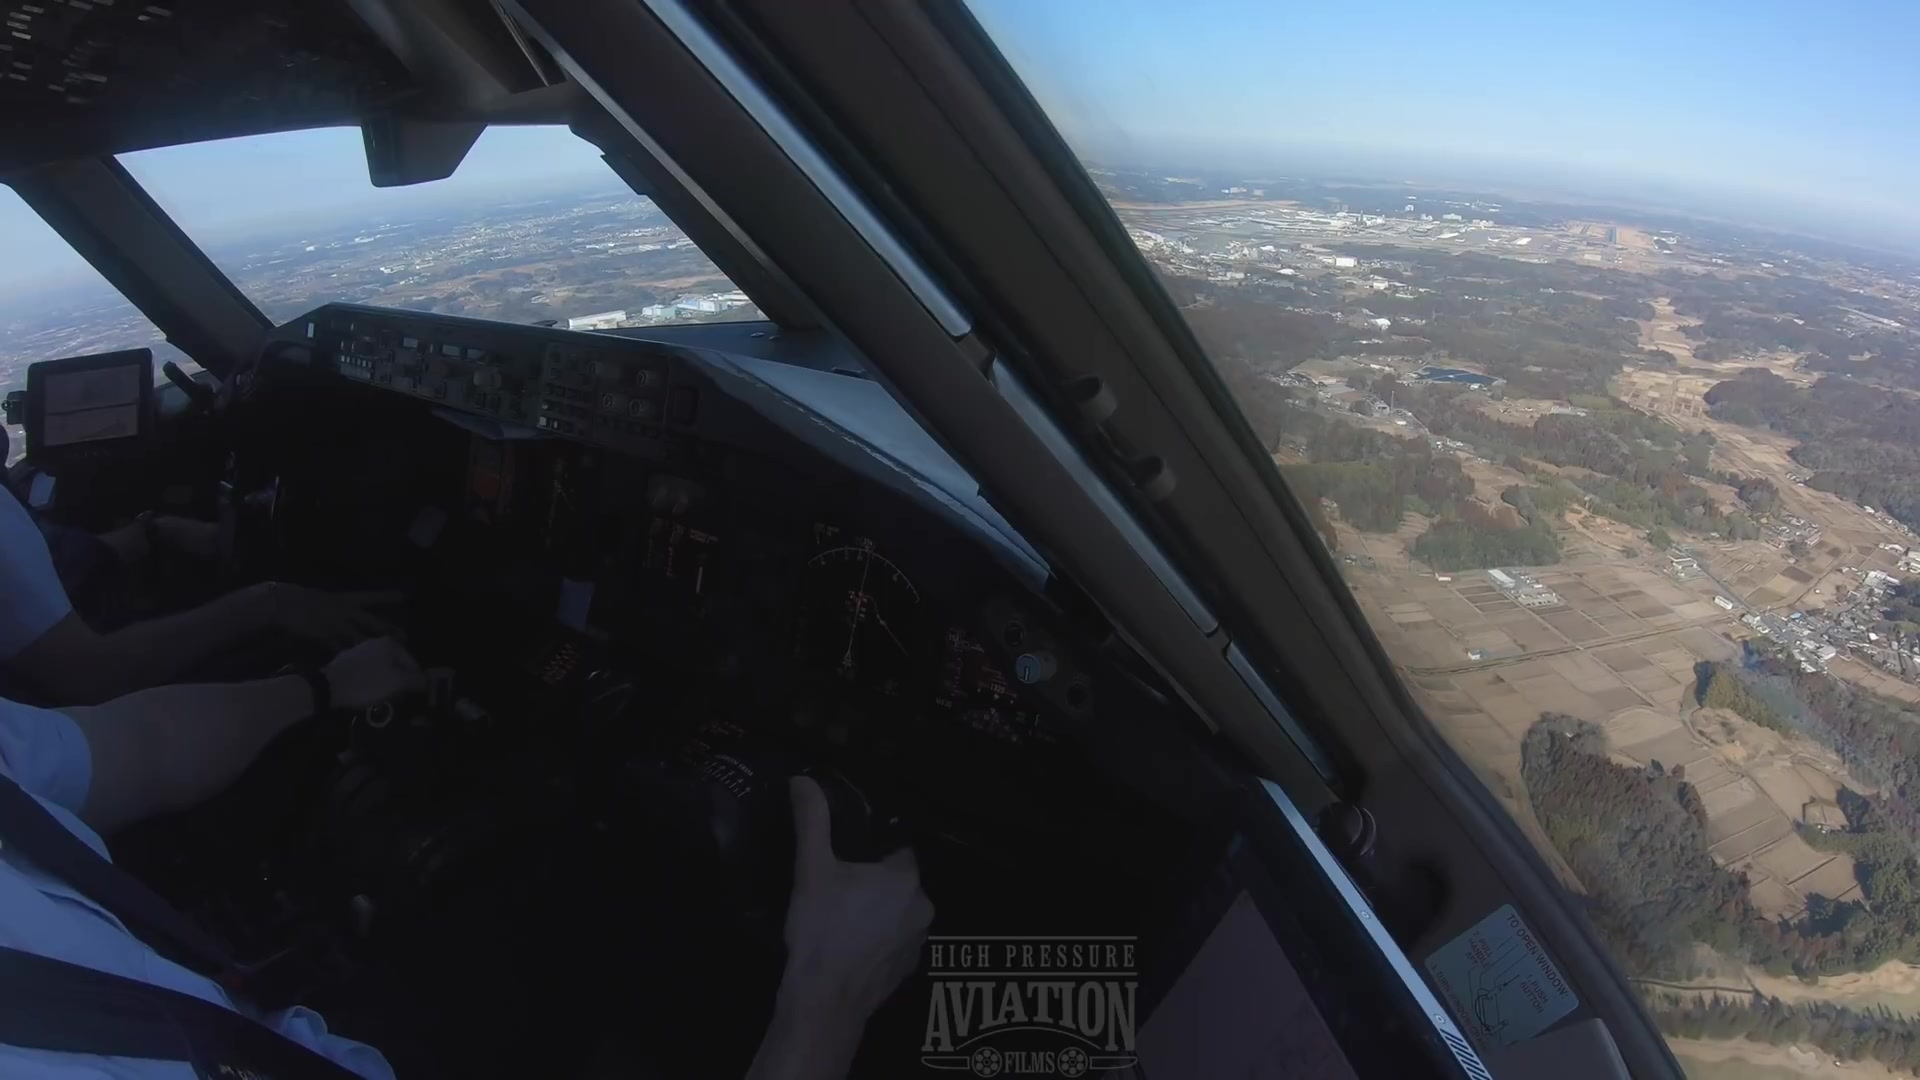runway: (1602, 222, 1619, 248)
